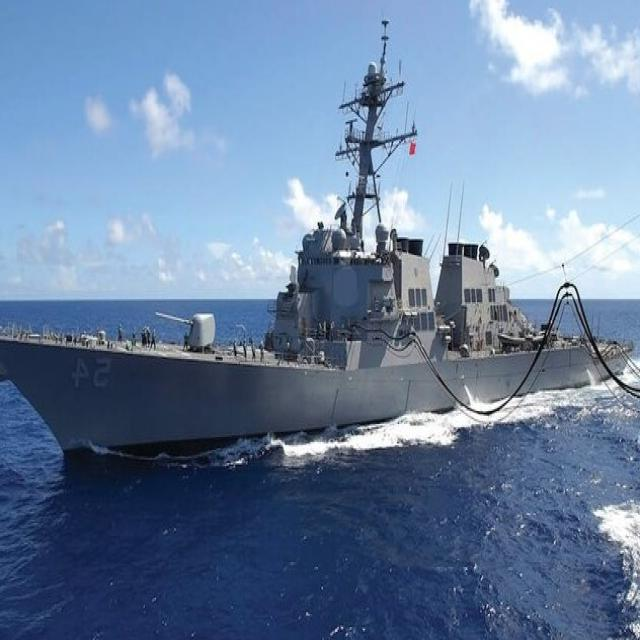navalvessels: (0, 42, 638, 468)
